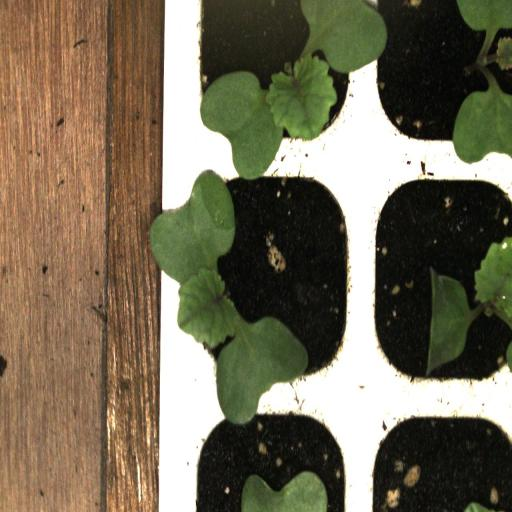Folha: (427, 236, 512, 370), (452, 81, 512, 164), (241, 470, 328, 512), (457, 0, 512, 64)
Germinacao: (180, 158, 361, 396), (179, 2, 359, 160)
